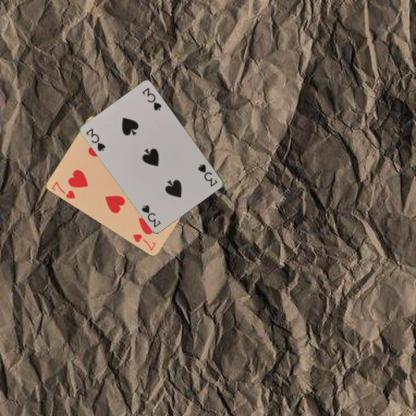3s: (195, 161, 219, 188), (83, 126, 107, 152)
7h: (49, 178, 77, 200)
